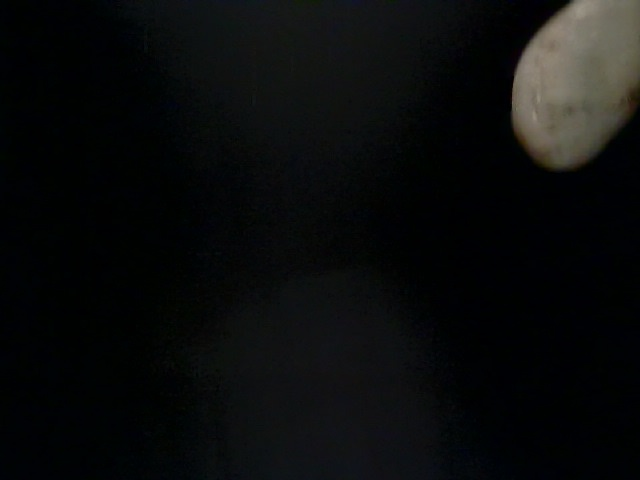QTLJ: (119, 103, 387, 365)
